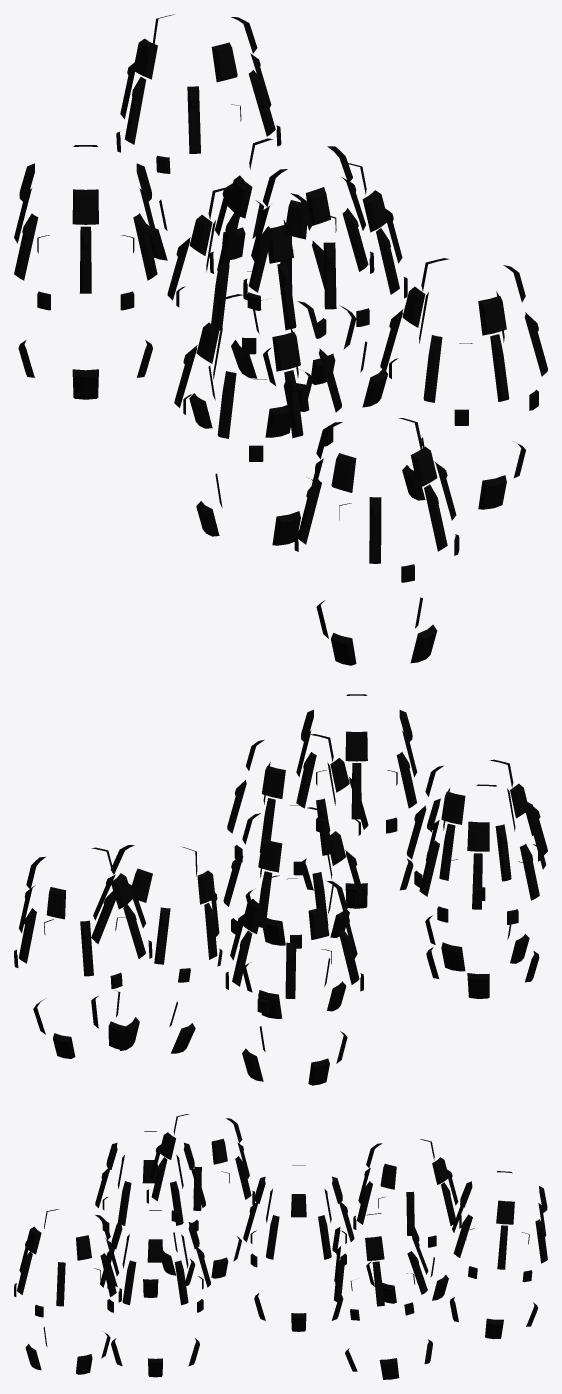
The model's file is prop_static_yao_container_01_06.glb.
3 views of the same model, one above another, from view 1: azimuth 30°, elevation 25°; view 2: azimuth 150°, elevation 25°; view 3: azimuth 270°, elevation 25° (orthographic). The views are drawn at different scales.
Visible parts, largest first — view 1: yao_container_01_06_LOD0; view 2: yao_container_01_06_LOD0; view 3: yao_container_01_06_LOD0.
Part boxes in pixels (x1=…): yao_container_01_06_LOD0: x1=14, y1=14, x2=547, y2=665; yao_container_01_06_LOD0: x1=14, y1=694, x2=547, y2=1085; yao_container_01_06_LOD0: x1=14, y1=1114, x2=547, y2=1379.
Size of what is drawn, in the model's own units: 4.91 by 5.18 by 10.04.
1 material, 1 textured.
